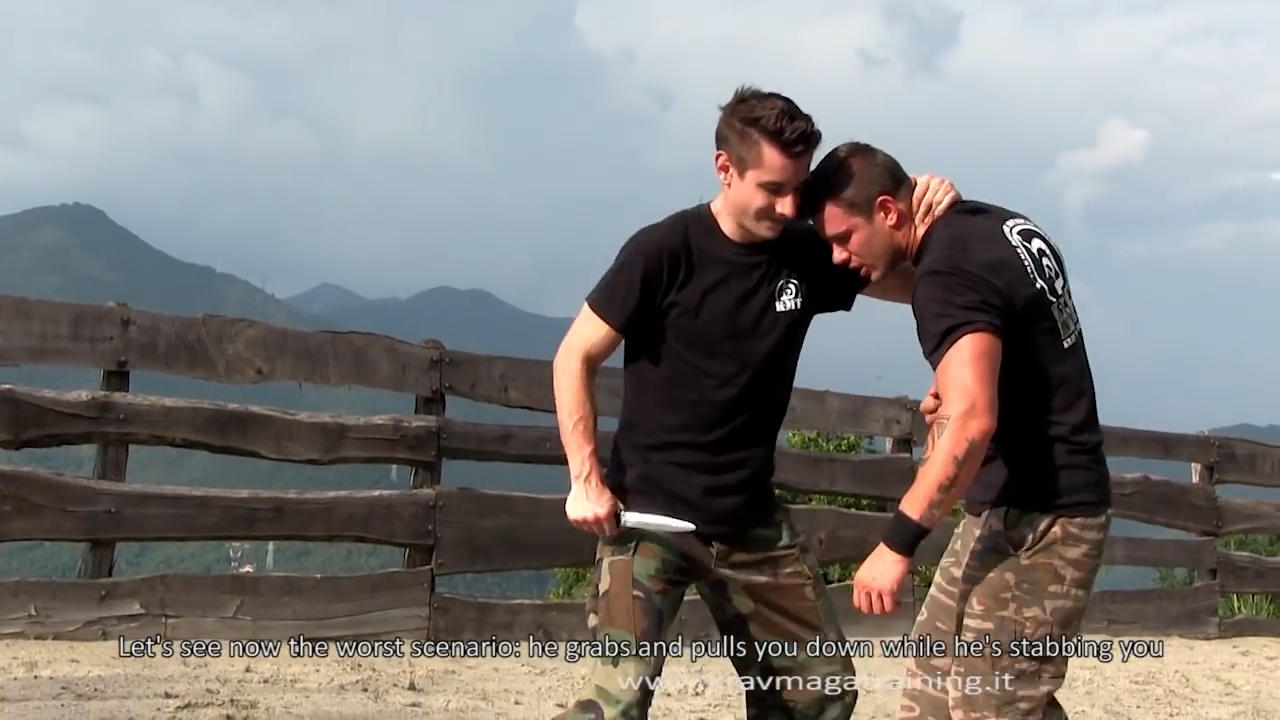knife: (561, 500, 710, 542)
